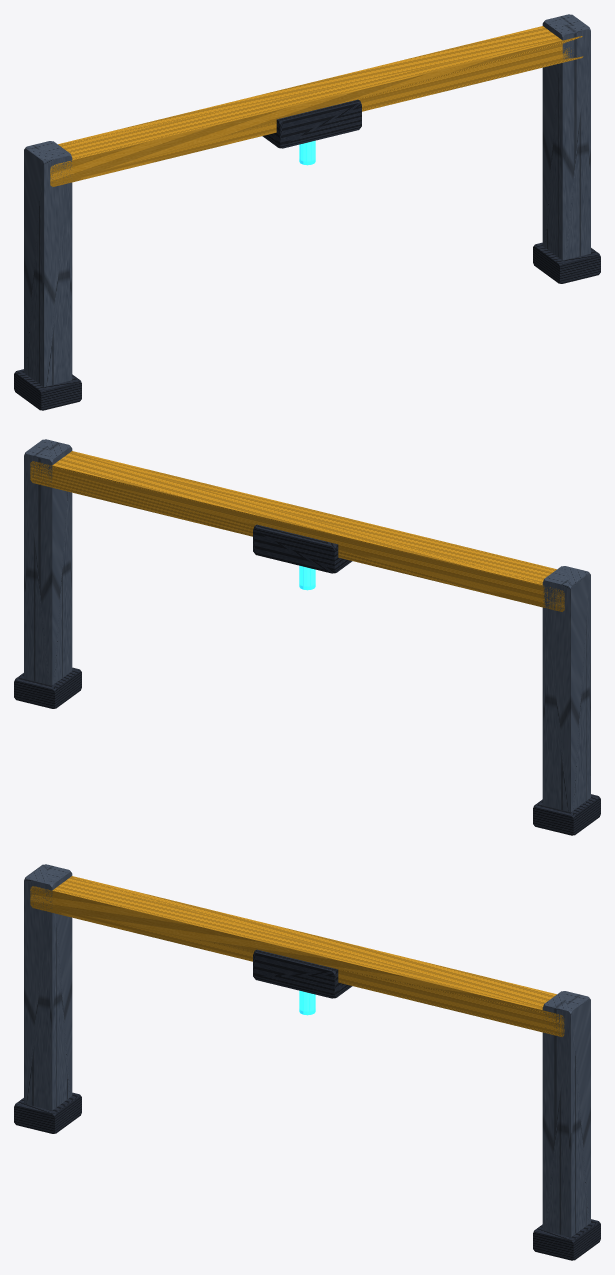
The model's file is hangar_gantry_crane.glb.
The picture shows the model from 3 angles, top to bottom: view 1: azimuth 30°, elevation 25°; view 2: azimuth 150°, elevation 25°; view 3: azimuth 330°, elevation 25°; orthographic projection.
Parts seen in each view (by area): view 1: hangar_gantry_crane; view 2: hangar_gantry_crane; view 3: hangar_gantry_crane.
Part boxes in pixels (x1,y1,x2,y2): hangar_gantry_crane: [14, 14, 600, 410]; hangar_gantry_crane: [14, 439, 600, 835]; hangar_gantry_crane: [14, 864, 600, 1260].
Size of the model in its own units: 35.6 by 15 by 3.
1 material, 1 textured.
